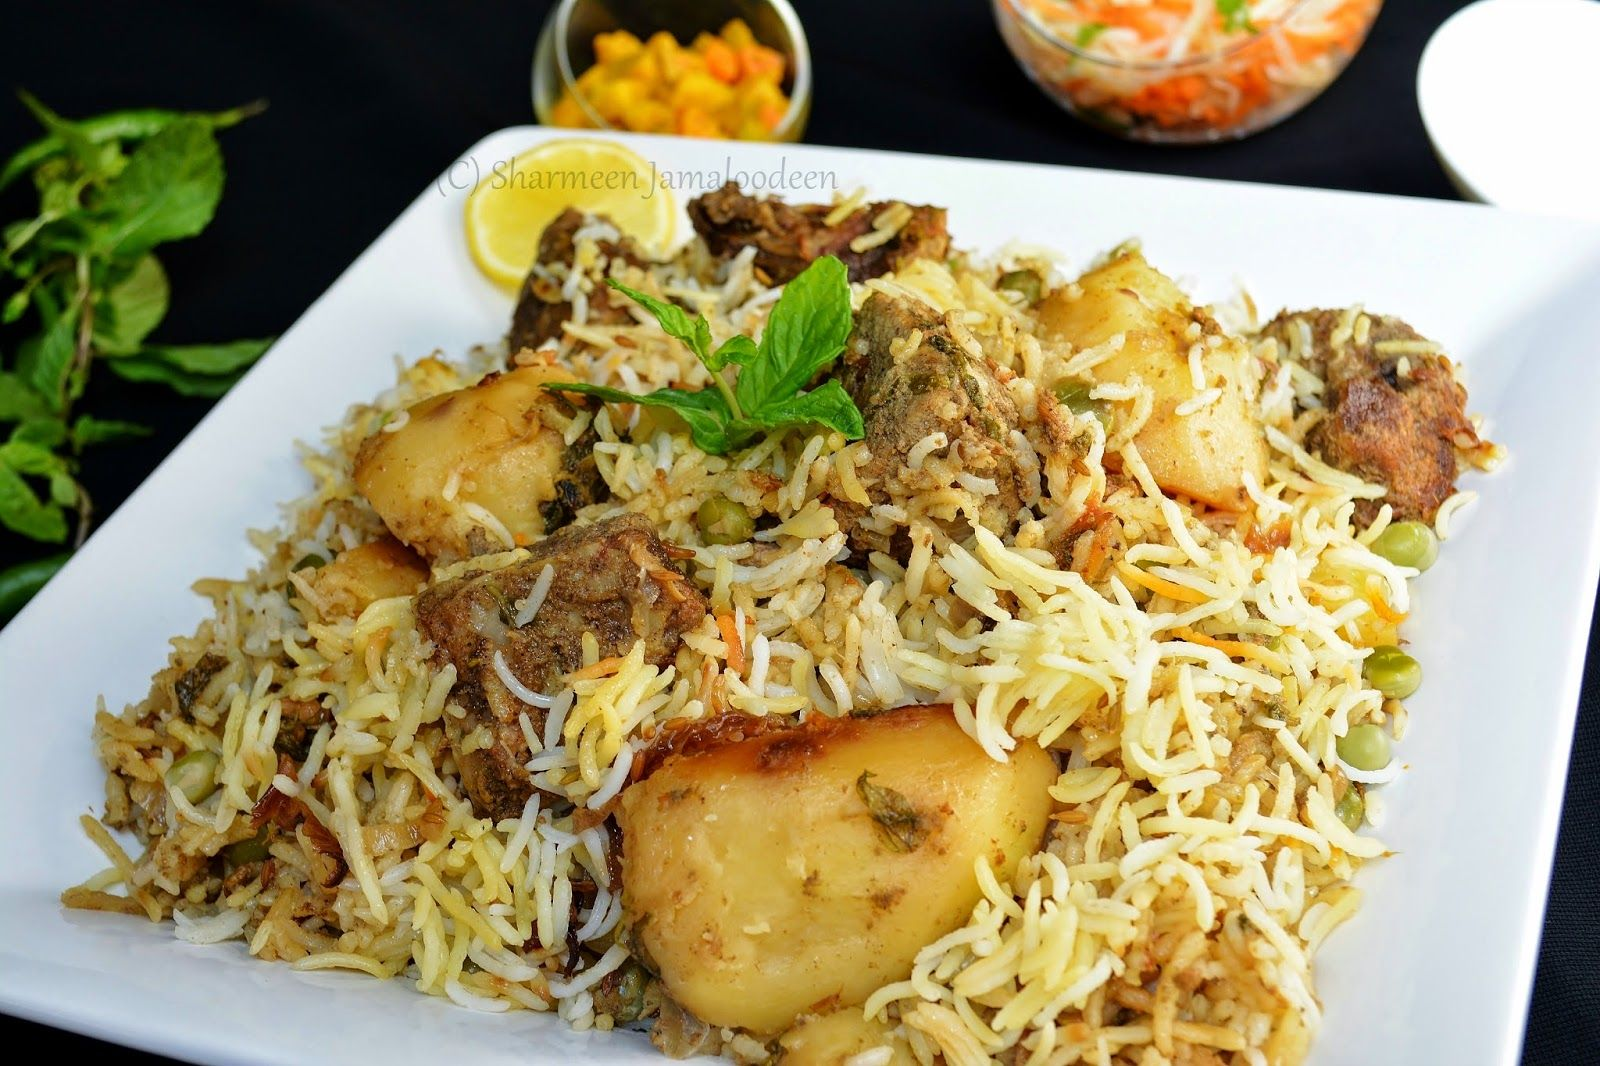Biryani: (105, 62, 1489, 1054)
